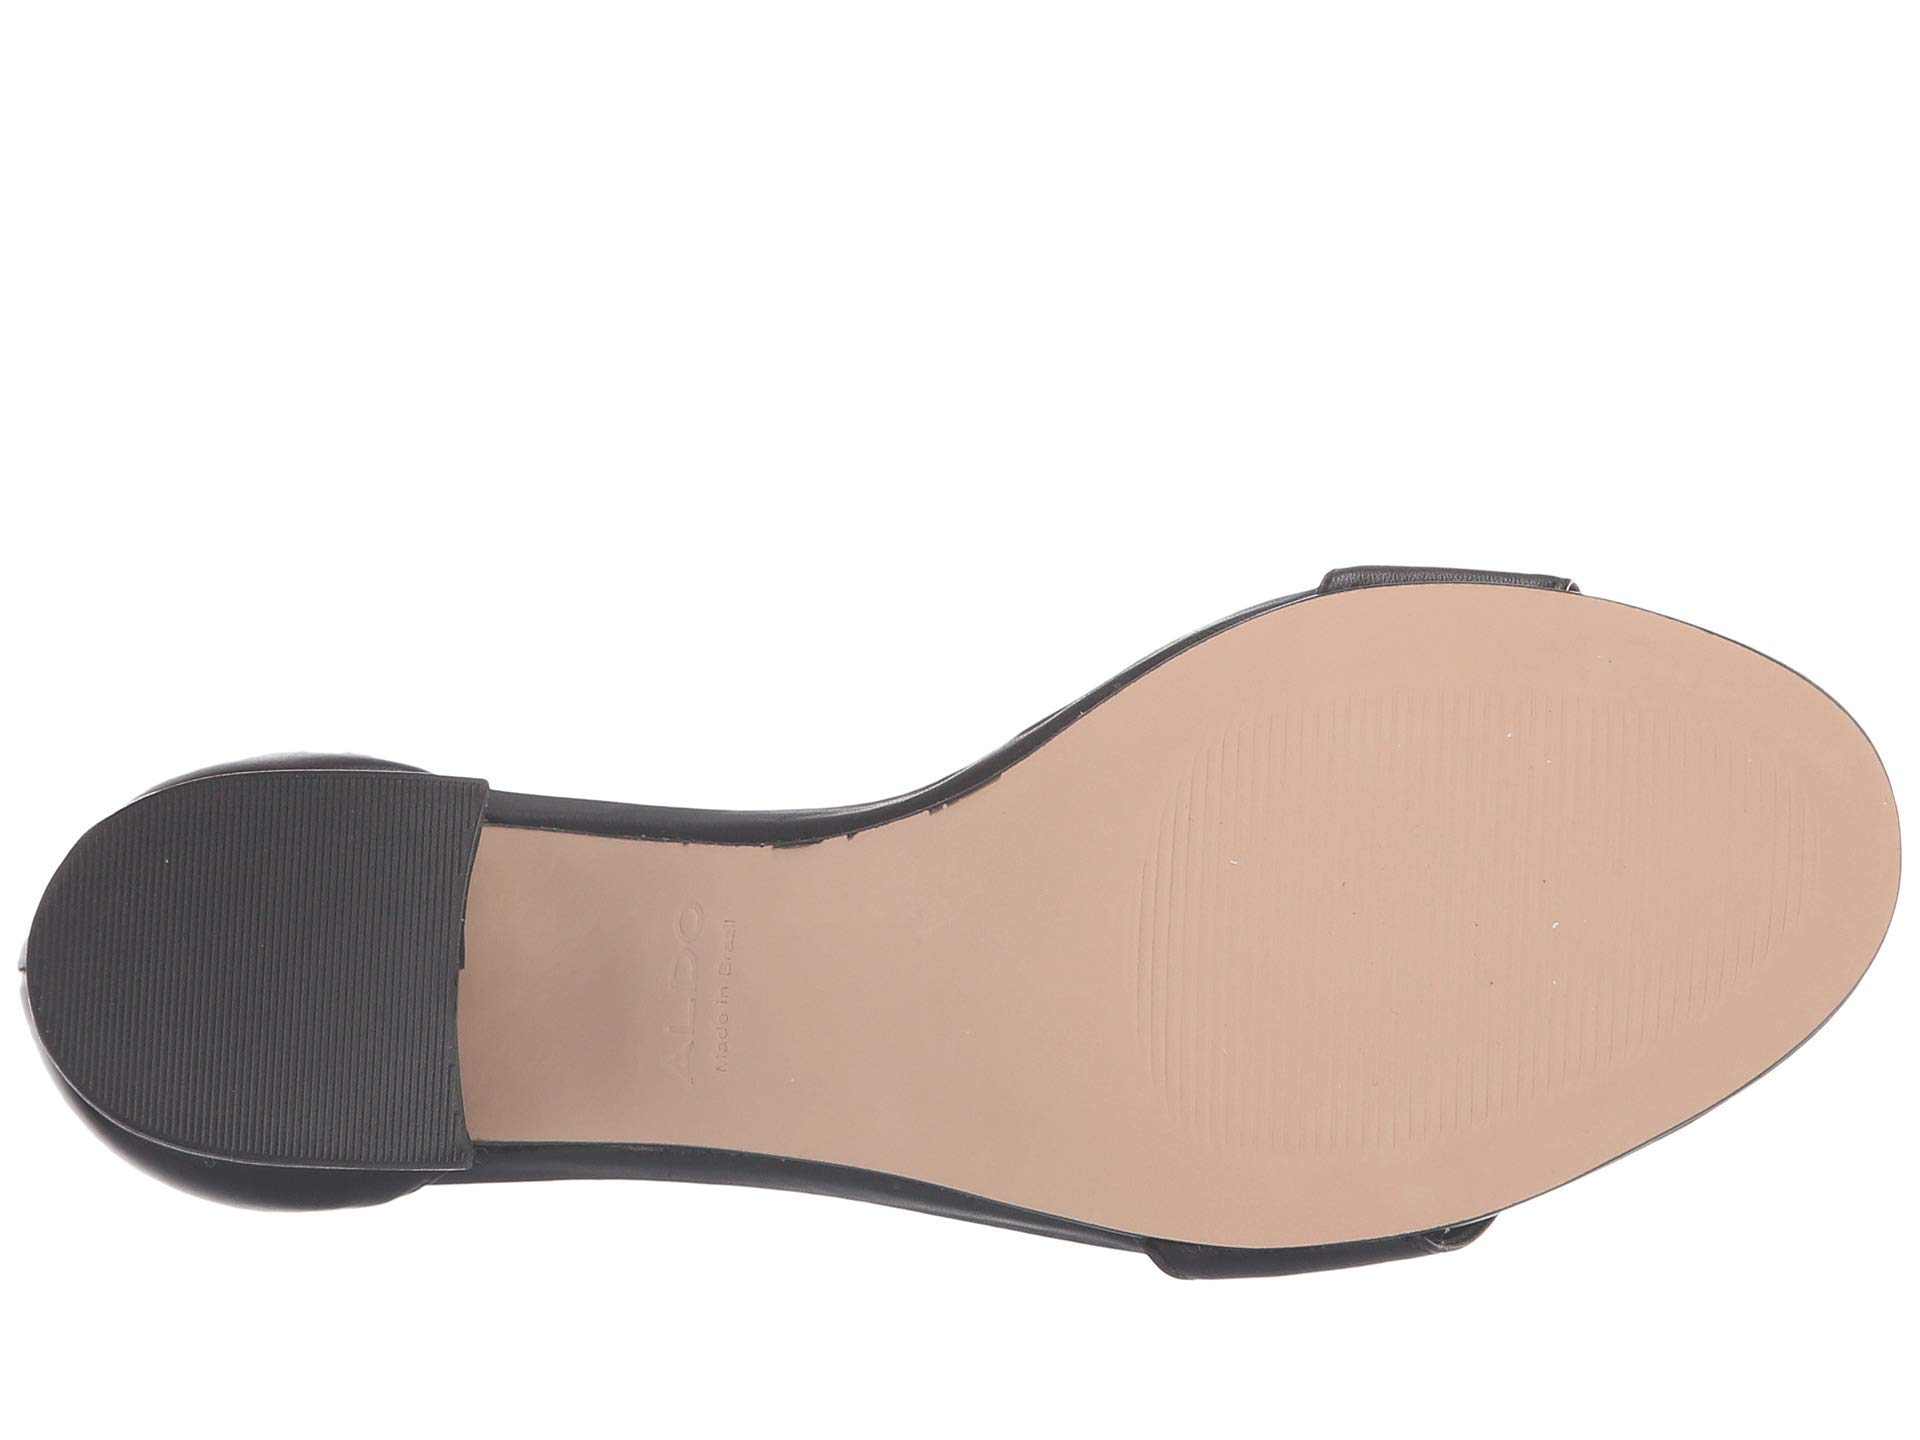line: (119, 843, 392, 1113)
